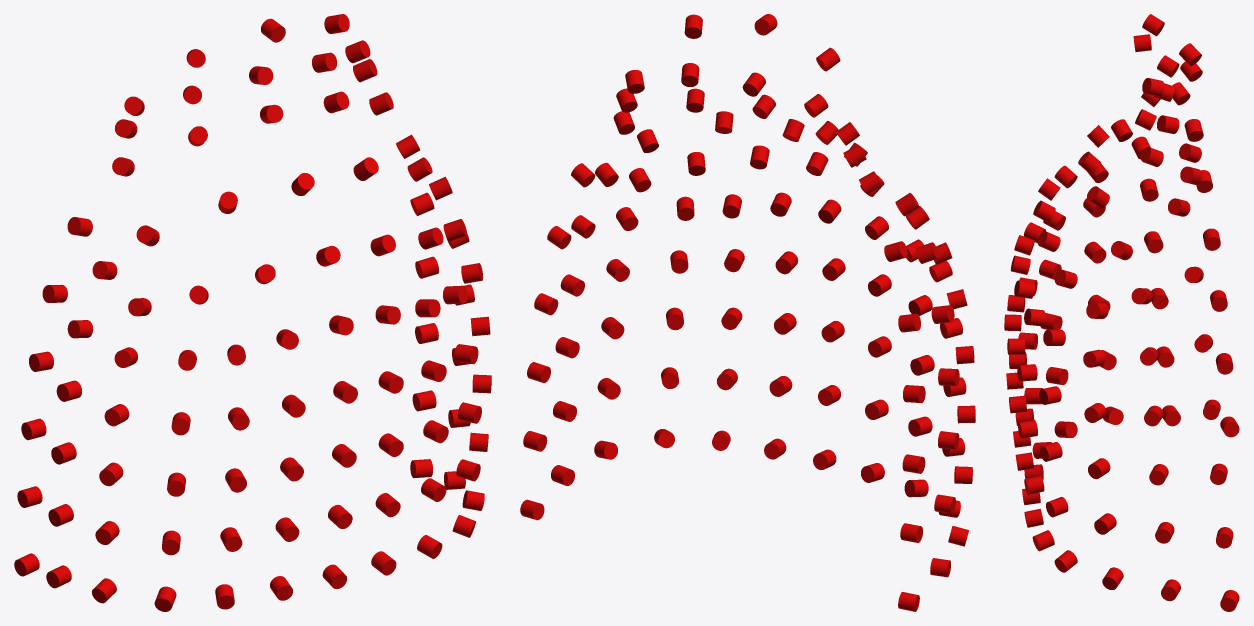
3 views of the same model, side by side, from view 1: azimuth 30°, elevation 25°; view 2: azimuth 150°, elevation 25°; view 3: azimuth 270°, elevation 25° (orthographic). The views are drawn at different scales.
Bounding box in the file's own units: 0.0268 × 0.033 × 0.0144.
